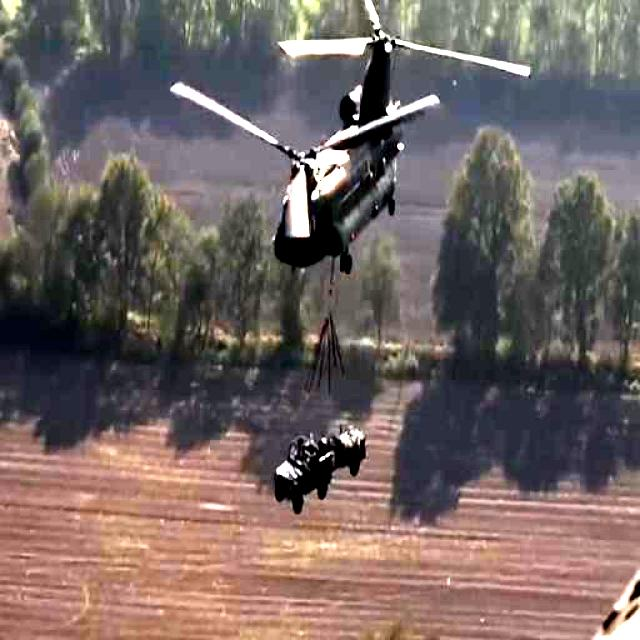drone: (162, 0, 538, 288)
